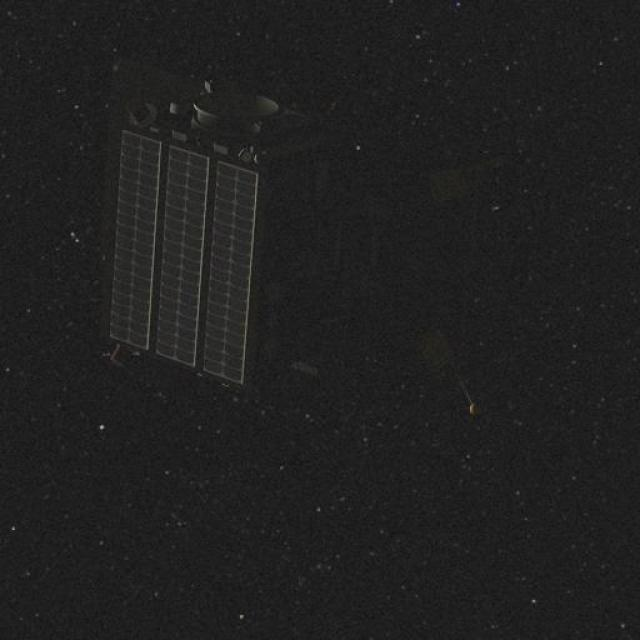proba_2: (83, 86, 275, 404)
